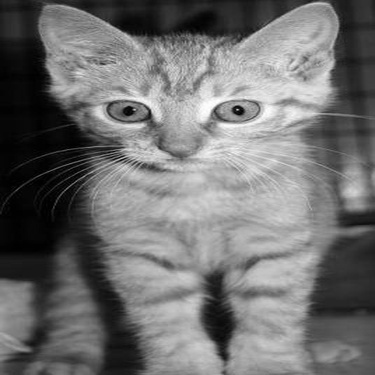cat: (10, 2, 358, 371)
